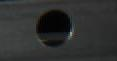holes: (34, 8, 76, 48)
